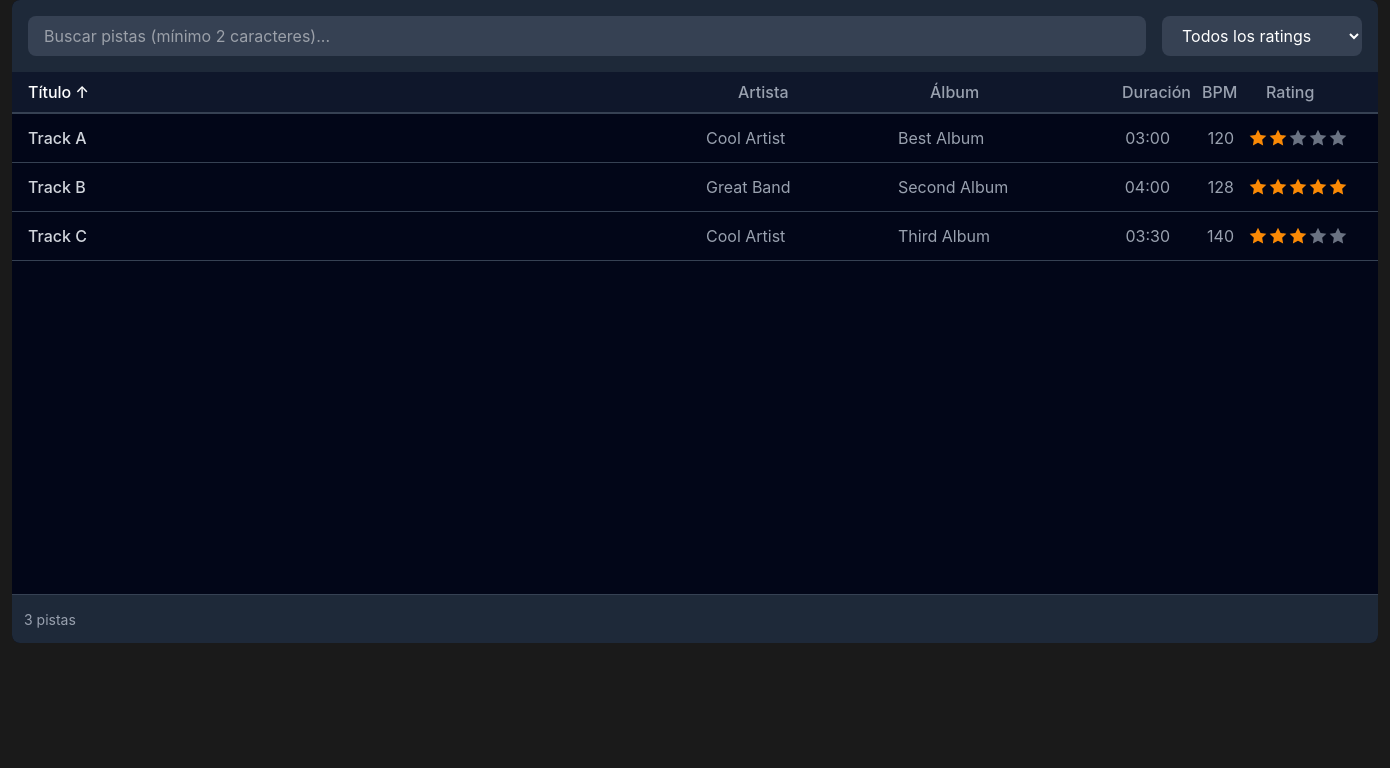
TrackList › debería filtrar por rating mínimo
Select "★★★ y superior" in the dropdown named "Filtrar por rating" at (1262, 36), box x1=1162 y1=16 x2=1362 y2=56
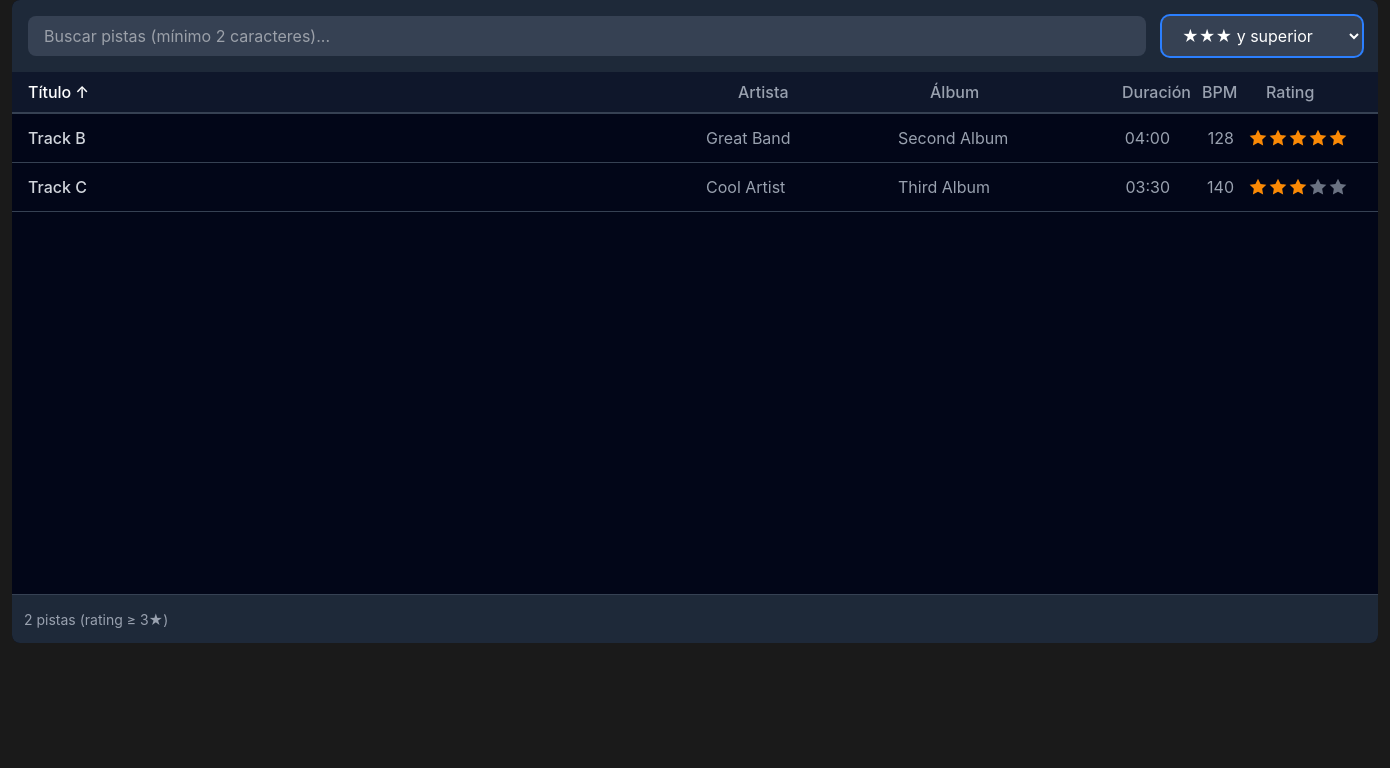
expect the text "Track B" is shown: met, box x1=28 y1=128 x2=86 y2=148
expect the number of rows is 2: met, box x1=12 y1=114 x2=1378 y2=163; x1=12 y1=163 x2=1378 y2=212
expect the text "Track A" is gone: met
